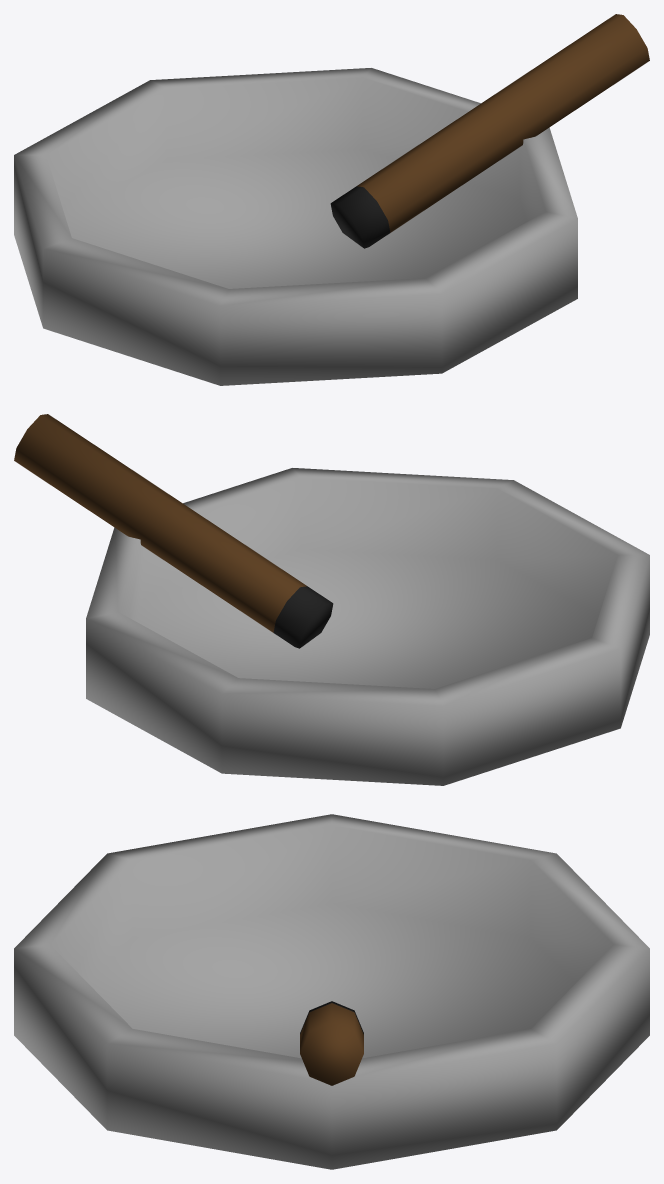
The model's file is cenicero.fbx.
3 views of the same model, one above another, from view 1: azimuth 30°, elevation 25°; view 2: azimuth 150°, elevation 25°; view 3: azimuth 270°, elevation 25° (orthographic). The views are drawn at different scales.
Visible parts, largest first — view 1: Cylinder.003; view 2: Cylinder.003; view 3: Cylinder.003.
Part boxes in pixels (x1,y1,x2,y2): Cylinder.003: (14, 14, 649, 385); Cylinder.003: (14, 414, 649, 785); Cylinder.003: (14, 814, 649, 1169).
Size of the model in its own units: 21.46 by 5.88 by 18.11.
